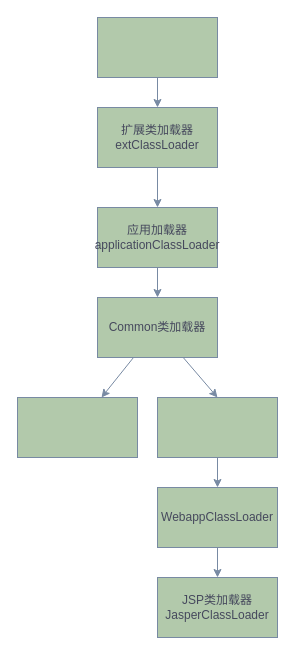
The diagram is 295 pixels wide and 655 high, and some of its shapes have lost their labels. Each missing label, with the box of its shape:
CatalinaClassLoader: (16, 396, 138, 458)
SharedClassLoader: (156, 396, 278, 458)
启动类加载器 bootstrapClassLoader: (96, 16, 218, 78)
